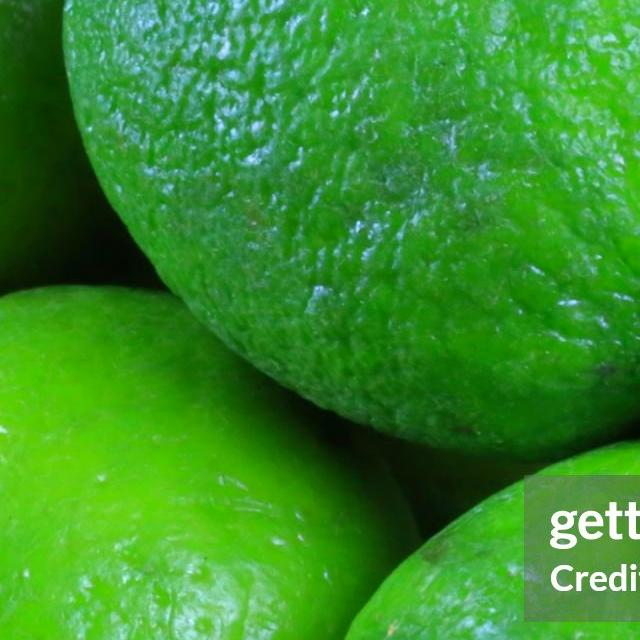lime: (60, 0, 640, 450)
